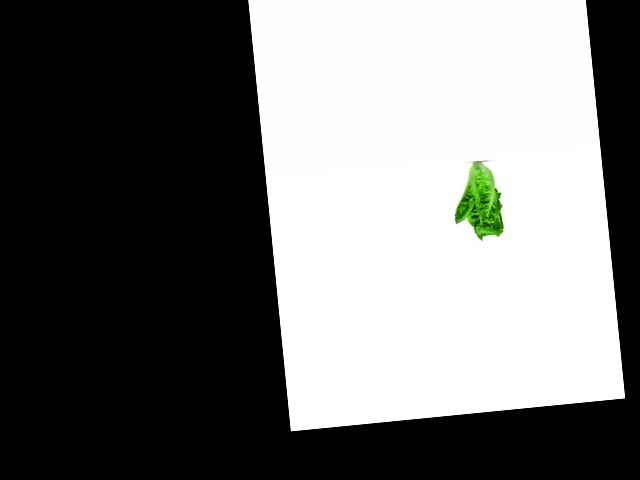lettuce: (449, 162, 508, 243)
